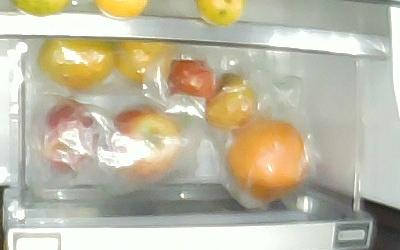apple_vinyl: (114, 104, 182, 179), (40, 97, 101, 176)
grapefruit_vinyl: (225, 117, 305, 196)
persimmon_vinyl: (35, 37, 116, 89), (115, 40, 182, 82)
prune_vinyl: (204, 71, 257, 130), (165, 57, 216, 99)
